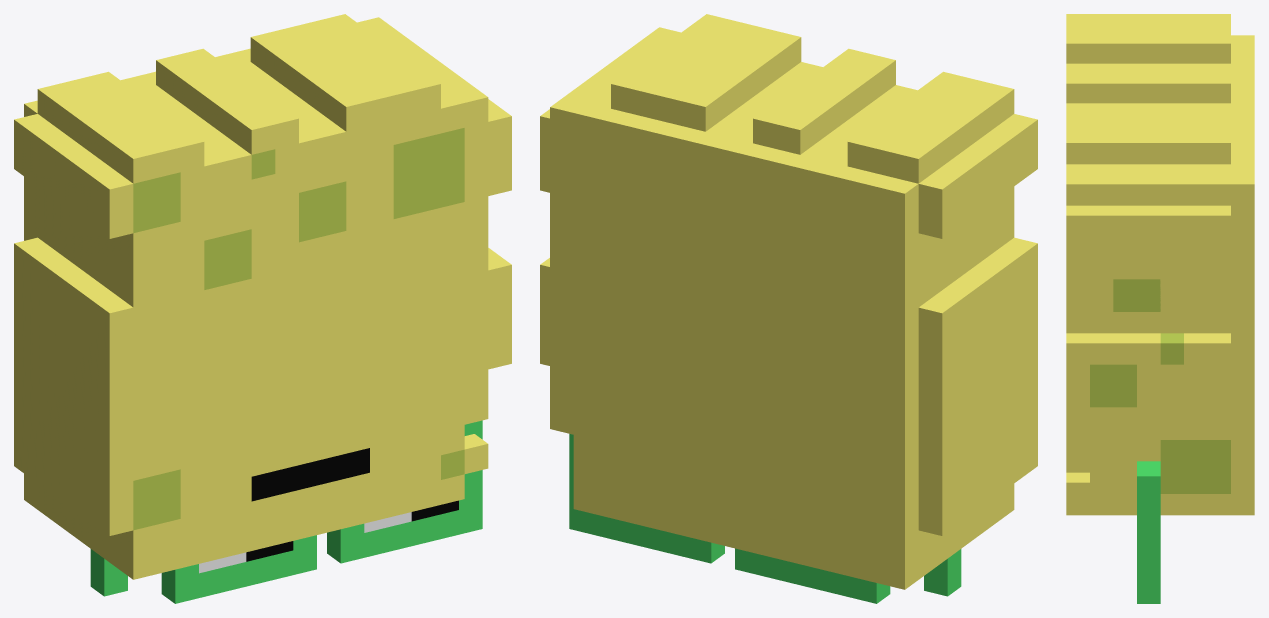
Rendered from sponge.glb.
3 renders of one model, left to right at view 1: azimuth 30°, elevation 25°; view 2: azimuth 150°, elevation 25°; view 3: azimuth 270°, elevation 25°, orthographic. The views are drawn at different scales.
Parts seen in each view (by area): view 1: base, h1, glasses, mouth, layer-2; view 2: base, glasses; view 3: base, h2, glasses.
Boxes of the visible parts, box(x1,y1,x2,y2) form: base: box(14, 14, 511, 579); h1: box(133, 128, 464, 530); glasses: box(90, 420, 482, 603); mouth: box(251, 448, 369, 501); layer-2: box(199, 500, 458, 573); base: box(540, 14, 1037, 589); glasses: box(569, 434, 961, 603); base: box(1066, 14, 1254, 515); h2: box(1090, 279, 1230, 493); glasses: box(1137, 461, 1160, 603).
Size of the model in its own units: 17.5 by 20 by 8.
7 materials, 7 textured.
